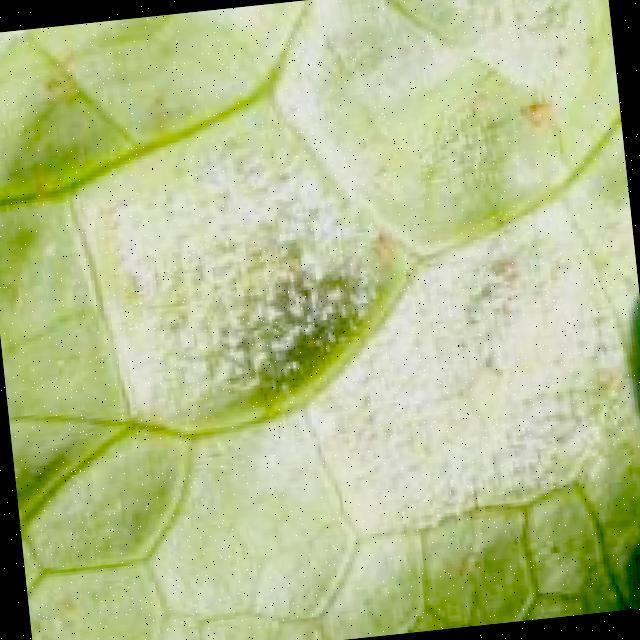Powdery_Mildew: (192, 130, 604, 557)
